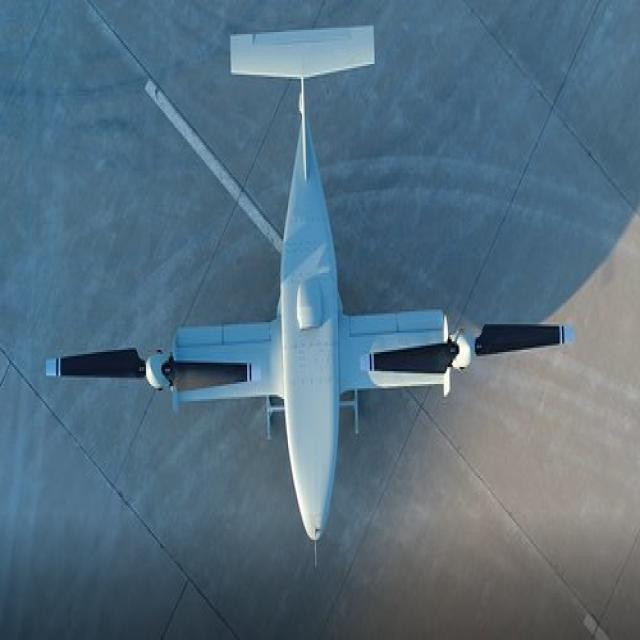iha: (26, 17, 574, 553)
